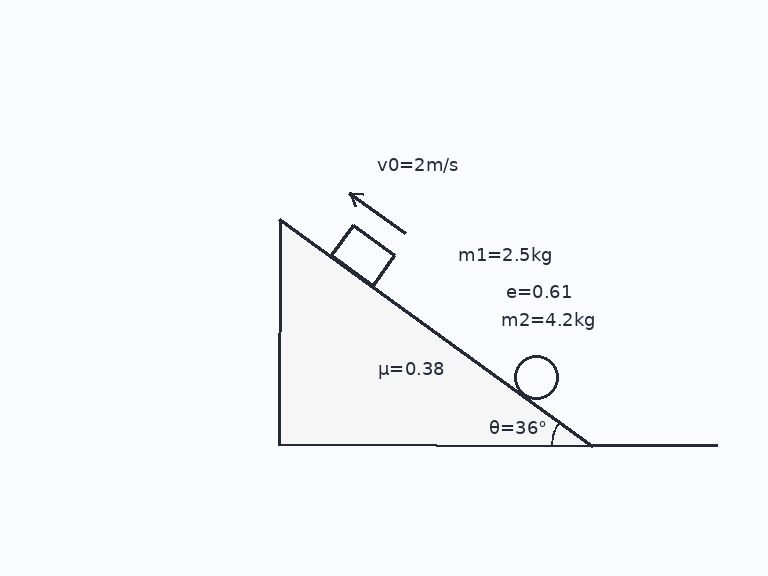ball: (512, 353, 560, 401)
block: (329, 223, 397, 288)
ramp: (279, 217, 594, 447)
